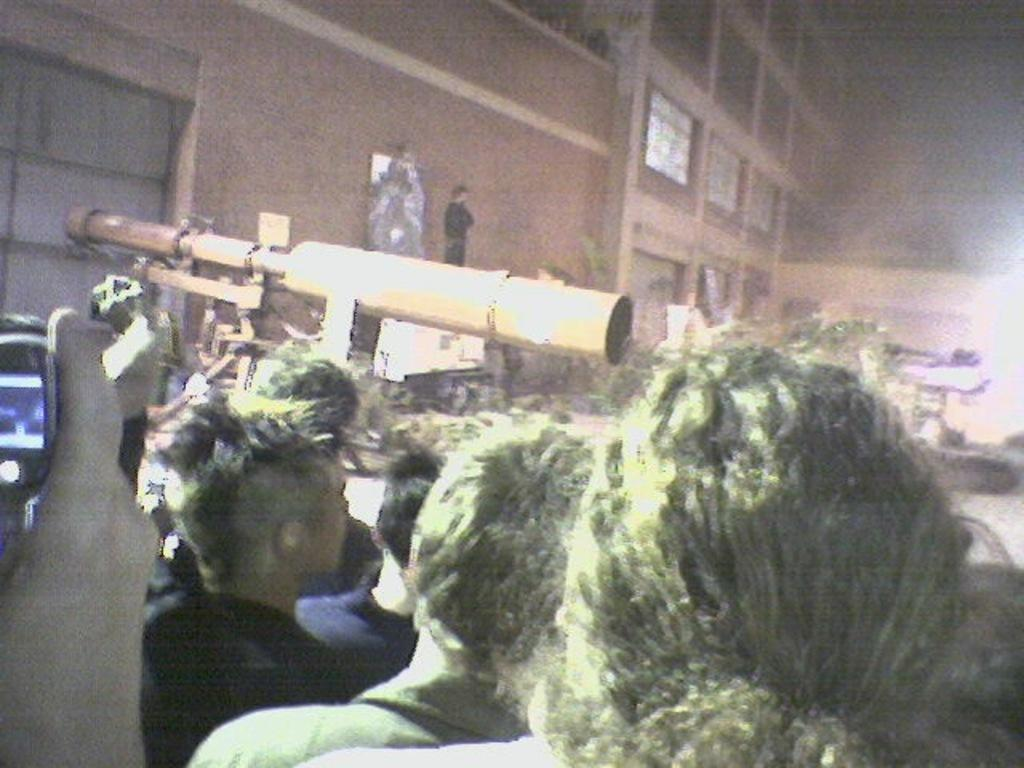Rifle: (70, 203, 587, 384)
